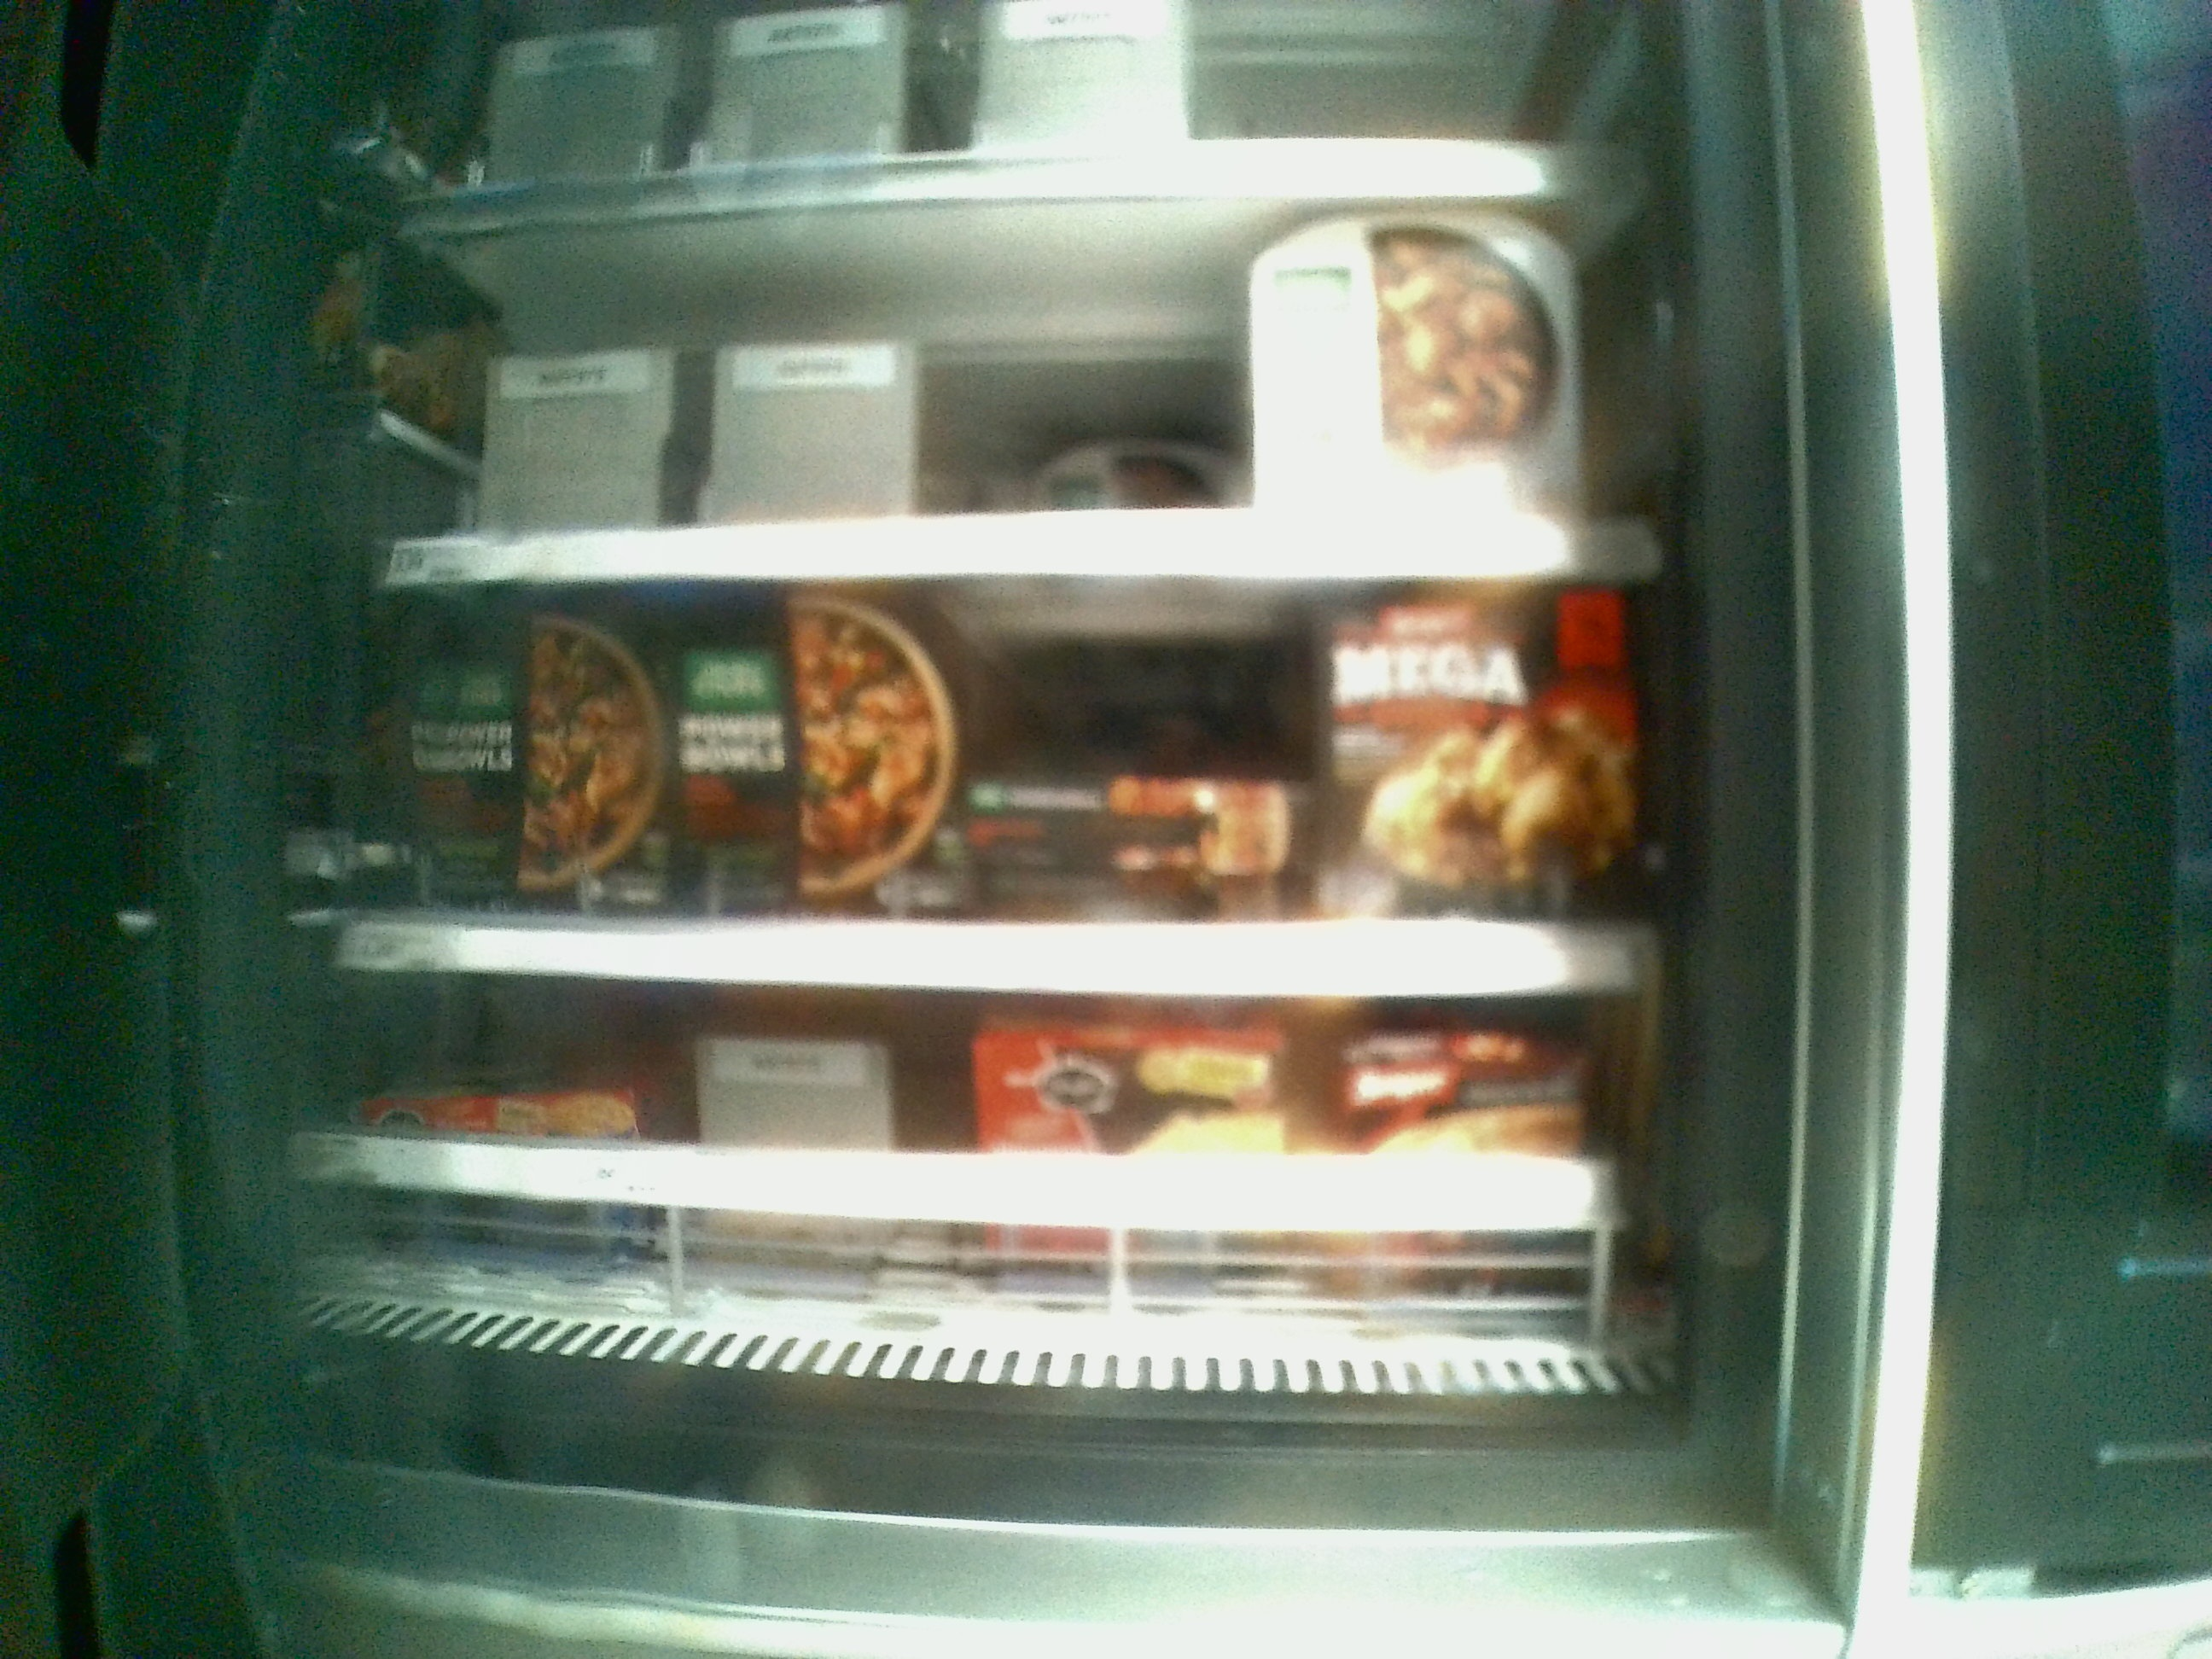shelf: (336, 967, 1674, 1391), (388, 579, 1662, 1007), (388, 193, 1649, 579)
